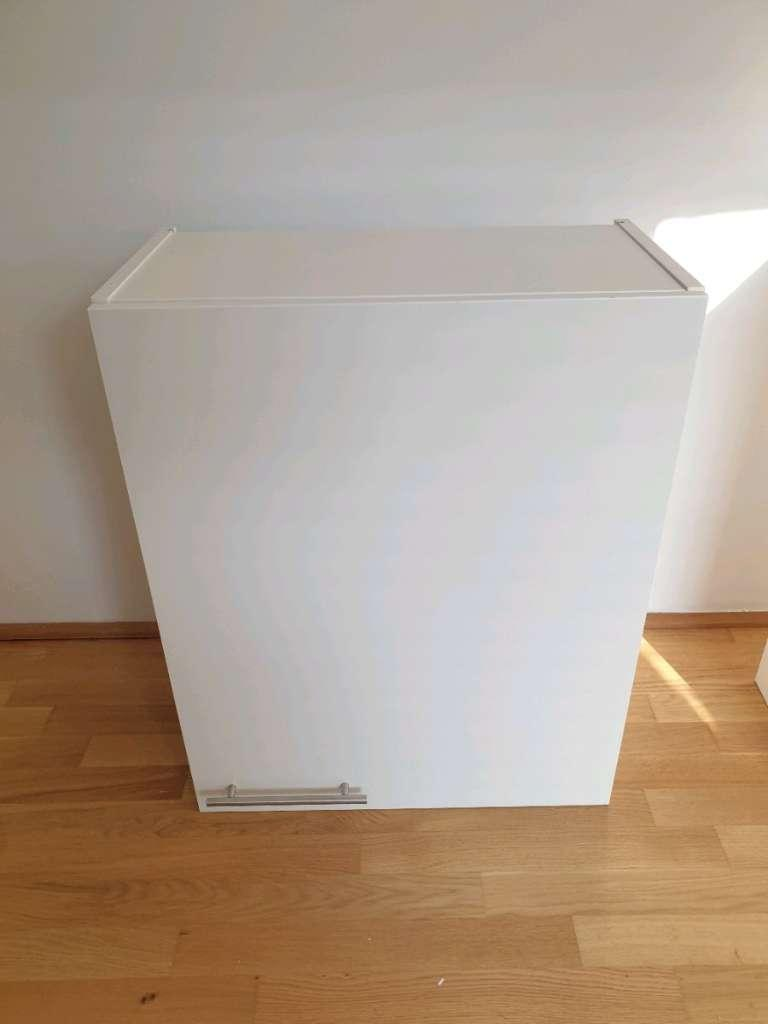cabinet_door: (157, 302, 645, 807)
handle: (200, 773, 375, 817)
